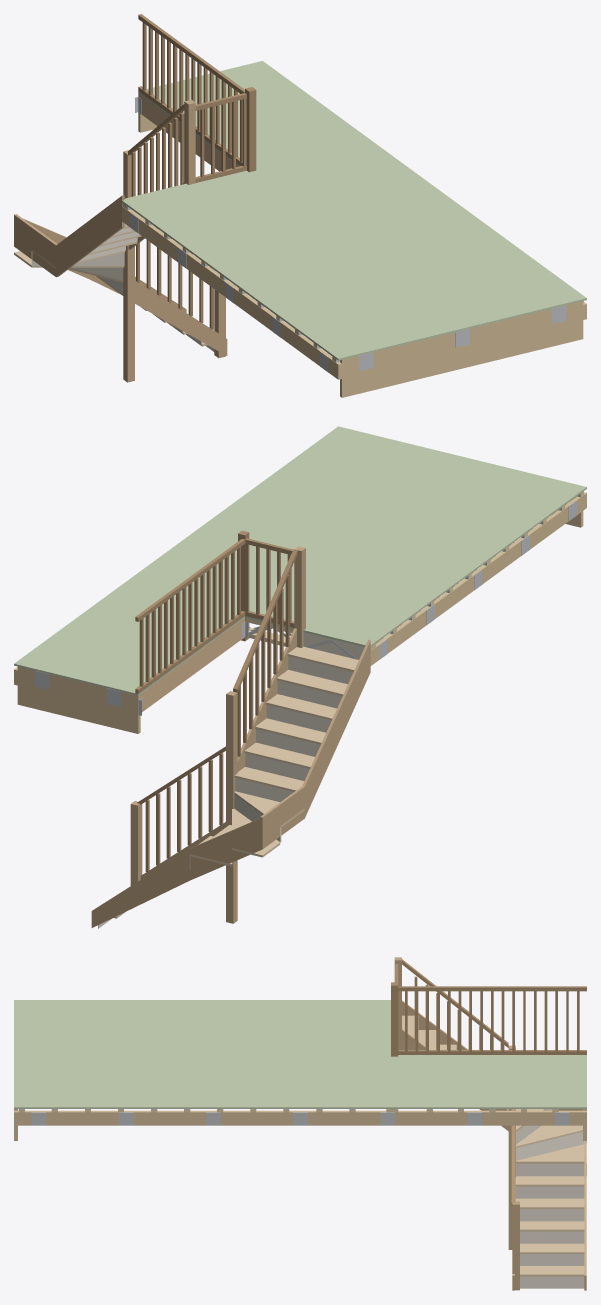
Rendered from stage-3.glb.
3 renders of one model, top to bottom at view 1: azimuth 30°, elevation 25°; view 2: azimuth 150°, elevation 25°; view 3: azimuth 270°, elevation 25°, orthographic. The views are drawn at different scales.
Parts seen in each view (by area): view 1: Geom3D (×8); view 2: Geom3D (×8); view 3: Geom3D (×8).
Boxes of the visible parts, box(x1,y1,x2,y2) form: Geom3D (×8): box(14, 14, 586, 397); Geom3D (×8): box(14, 426, 586, 928); Geom3D (×8): box(14, 957, 586, 1290).
Size of the model in its own units: 3.07 by 3.85 by 6.93.
